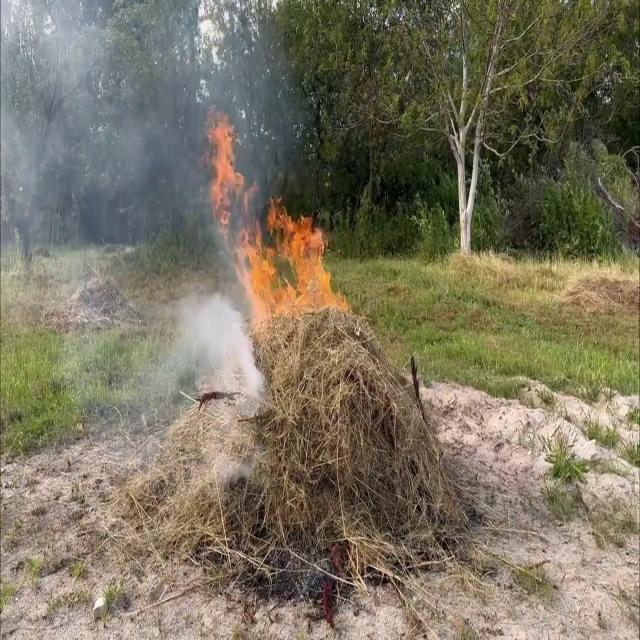Fire: (201, 112, 341, 334)
Smoke: (0, 1, 289, 254), (148, 274, 264, 412)
